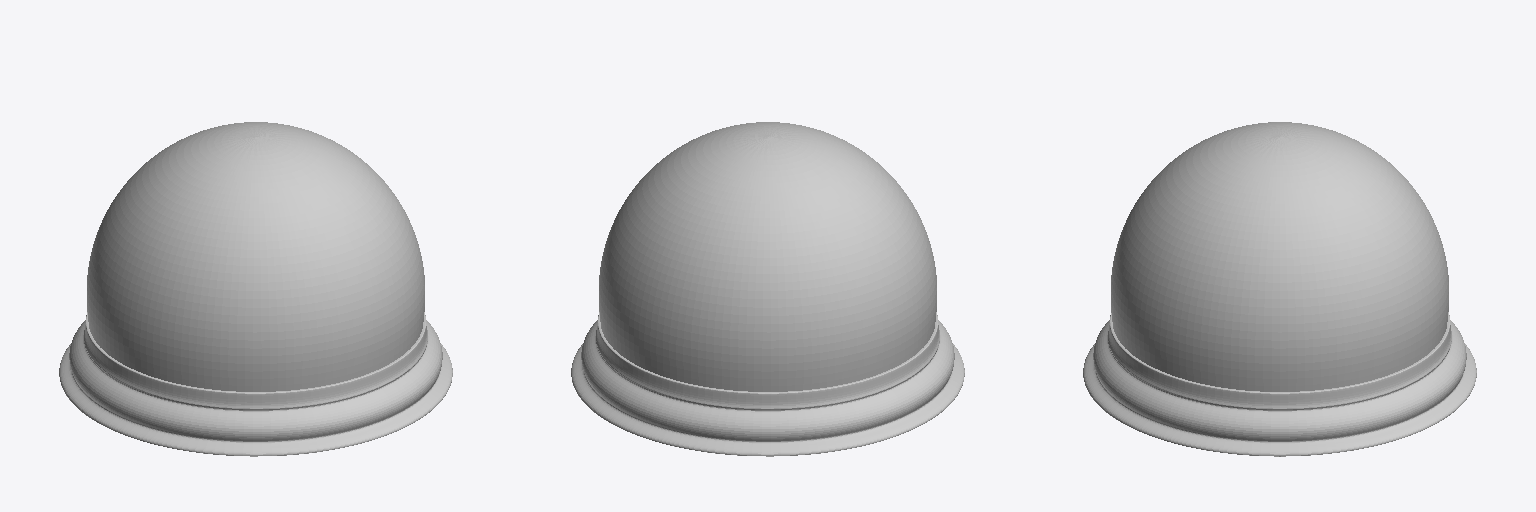
The model's file is snowglobe.obj.
The picture shows the model from 3 angles: view 1: azimuth 30°, elevation 25°; view 2: azimuth 150°, elevation 25°; view 3: azimuth 270°, elevation 25°; orthographic projection.
Parts seen in each view (by area): view 1: Sphere, Cylinder; view 2: Sphere, Cylinder; view 3: Sphere, Cylinder.
Boxes of the visible parts, x1,y1,x2,y2 form: Sphere: [87, 122, 424, 391]; Cylinder: [59, 312, 452, 456]; Sphere: [599, 122, 936, 391]; Cylinder: [571, 312, 964, 456]; Sphere: [1111, 122, 1448, 391]; Cylinder: [1083, 312, 1476, 456].
Size of the model in its own units: 459 by 305 by 459.